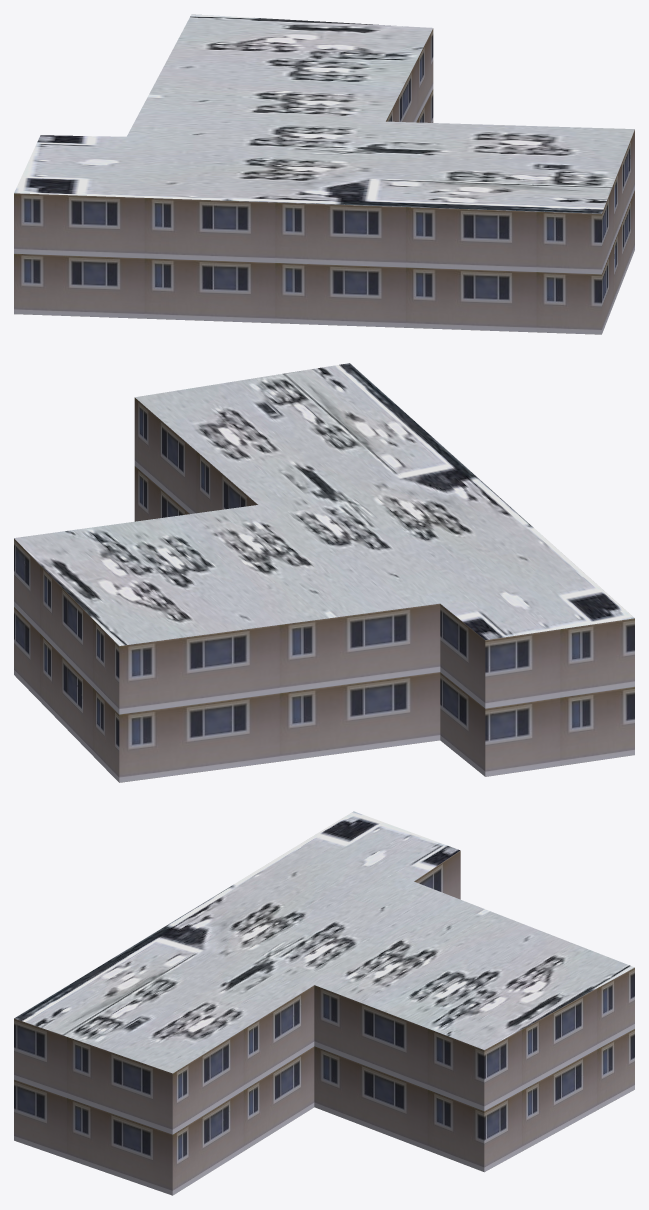
File: ResTex__260.fbx
The picture shows the model from 3 angles, top to bottom: view 1: azimuth 30°, elevation 25°; view 2: azimuth 150°, elevation 25°; view 3: azimuth 270°, elevation 25°; orthographic projection. The views are drawn at different scales.
Parts seen in each view (by area): view 1: CityEngineMaterial_21_m, CityEngineMaterial_8_m; view 2: CityEngineMaterial_21_m, CityEngineMaterial_8_m; view 3: CityEngineMaterial_21_m, CityEngineMaterial_8_m.
Boxes of the visible parts, x1,y1,x2,y2 form: CityEngineMaterial_21_m: (14,28,634,334); CityEngineMaterial_8_m: (14,14,634,213); CityEngineMaterial_21_m: (14,397,634,782); CityEngineMaterial_8_m: (14,363,634,645); CityEngineMaterial_21_m: (14,850,634,1195); CityEngineMaterial_8_m: (14,811,634,1073).
Size of the model in its own units: 27.6 by 6 by 27.63.
2 materials, 2 textured.
